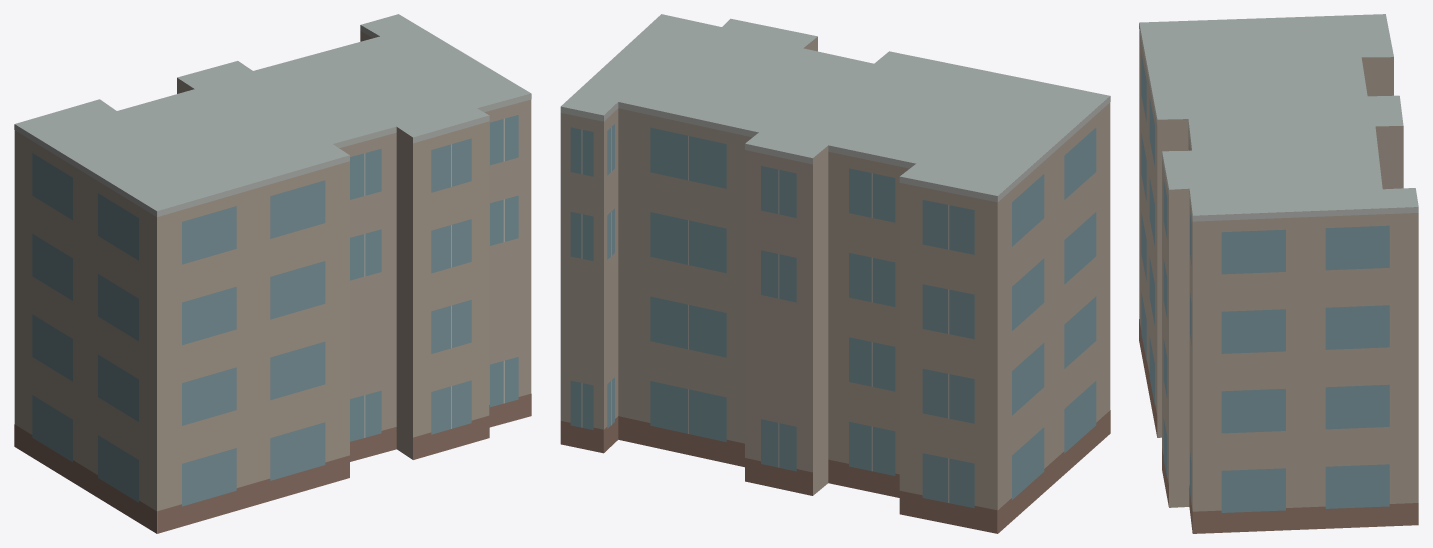
The model's file is survey-upis-32963848.glb.
The picture shows the model from 3 angles, left to right: view 1: azimuth 30°, elevation 25°; view 2: azimuth 150°, elevation 25°; view 3: azimuth 270°, elevation 25°; orthographic projection. The views are drawn at different scales.
Parts seen in each view (by area): view 1: survey-upis-32963848.tmp; view 2: survey-upis-32963848.tmp; view 3: survey-upis-32963848.tmp.
Boxes of the visible parts, <box> form: survey-upis-32963848.tmp: <box>14,14,531,533</box>; survey-upis-32963848.tmp: <box>560,14,1110,533</box>; survey-upis-32963848.tmp: <box>1139,14,1418,533</box>.
Bounding box in the file's own units: 17.89 × 13.15 × 10.48.
